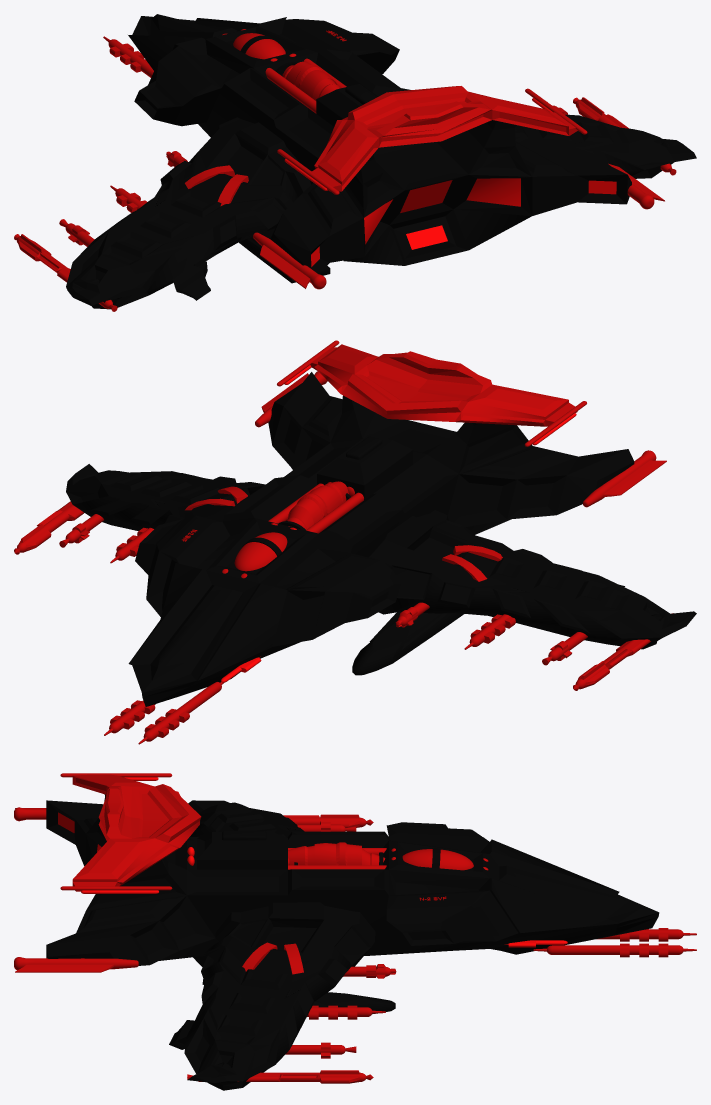
Rendered from valkiria.glb.
The picture shows the model from 3 angles, top to bottom: view 1: azimuth 30°, elevation 25°; view 2: azimuth 150°, elevation 25°; view 3: azimuth 270°, elevation 25°; orthographic projection. The views are drawn at different scales.
Visible parts, largest first — view 1: Box002, Box011, Box003, Box004, ChamferCyl024, Sphere001, ChamferCyl018, Sphere002, ChamferCyl022, ChamferCyl016, Cylinder001, ChamferCyl011 (+4 smaller); view 2: Box002, Box011, Box003, Box004, Box010, Sphere001, ChamferCyl024, ChamferCyl022, Sphere002, ChamferCyl016, ChamferCyl018, ChamferCyl019 (+2 smaller); view 3: Box002, Box004, Box003, Box011, Sphere001, ChamferCyl011, ChamferCyl023, ChamferCyl016, Sphere002, Box009, ChamferCyl018, ChamferCyl014 (+4 smaller).
Boxes of the visible parts, <box> form: Box002: <box>128,14,631,273</box>; Box011: <box>66,117,310,309</box>; Box003: <box>312,86,577,191</box>; Box004: <box>401,88,696,178</box>; ChamferCyl024: <box>253,232,326,289</box>; Sphere001: <box>282,61,340,100</box>; ChamferCyl018: <box>14,234,117,311</box>; Sphere002: <box>233,33,285,59</box>; ChamferCyl022: <box>103,36,153,77</box>; ChamferCyl016: <box>573,97,676,175</box>; Cylinder001: <box>265,68,316,113</box>; ChamferCyl011: <box>608,163,664,209</box>; Box002: <box>128,372,634,706</box>; Box011: <box>369,510,696,649</box>; Box003: <box>310,344,577,426</box>; Box004: <box>66,464,265,530</box>; Box010: <box>352,613,463,675</box>; Sphere001: <box>287,481,348,529</box>; ChamferCyl024: <box>582,450,666,507</box>; ChamferCyl022: <box>138,682,223,744</box>; Sphere002: <box>234,532,287,571</box>; ChamferCyl016: <box>14,501,84,554</box>; ChamferCyl018: <box>573,613,672,690</box>; ChamferCyl019: <box>464,614,515,649</box>; Box002: <box>46,794,659,1007</box>; Box004: <box>169,902,375,1090</box>; Box003: <box>72,774,201,891</box>; Box011: <box>188,800,304,836</box>; Sphere001: <box>288,842,385,865</box>; ChamferCyl011: <box>14,957,138,972</box>; ChamferCyl023: <box>533,943,696,957</box>; ChamferCyl016: <box>187,1070,373,1083</box>; Sphere002: <box>402,849,473,870</box>; Box009: <box>316,992,395,1014</box>; ChamferCyl018: <box>283,814,373,827</box>; ChamferCyl014: <box>307,1005,385,1019</box>.
Size of the model in its own units: 121 by 35.44 by 125.
